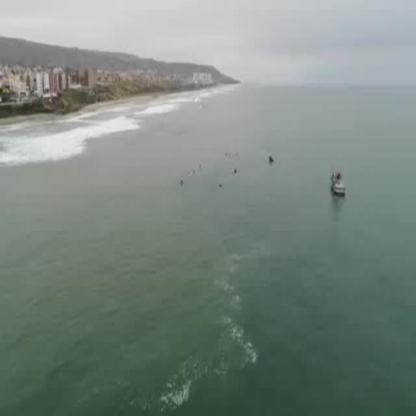Boat: (325, 170, 349, 200)
